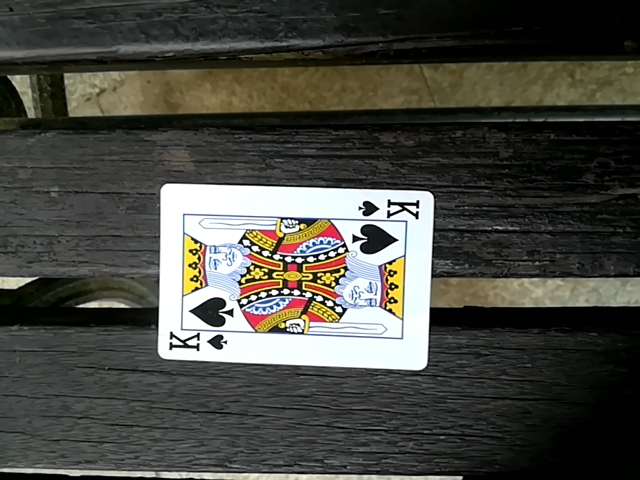ht k: (155, 179, 435, 368)
